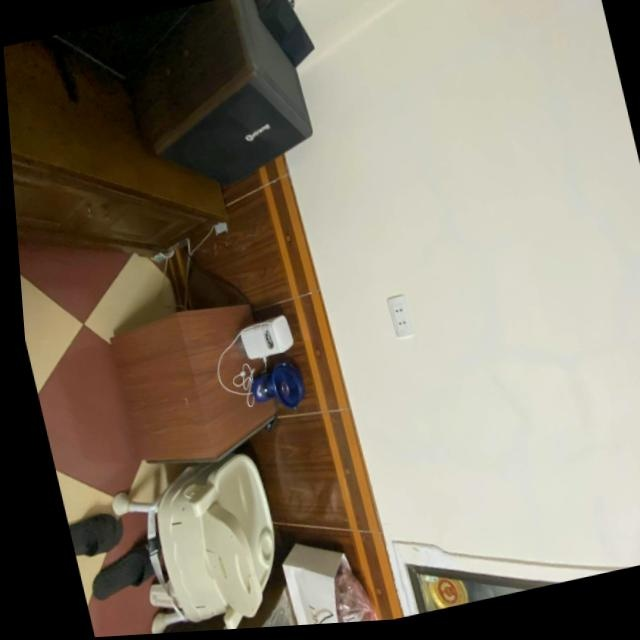outlet: (386, 294, 414, 339)
